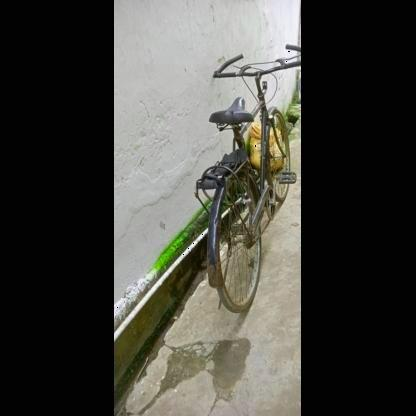Bicycle: (181, 42, 303, 322)
